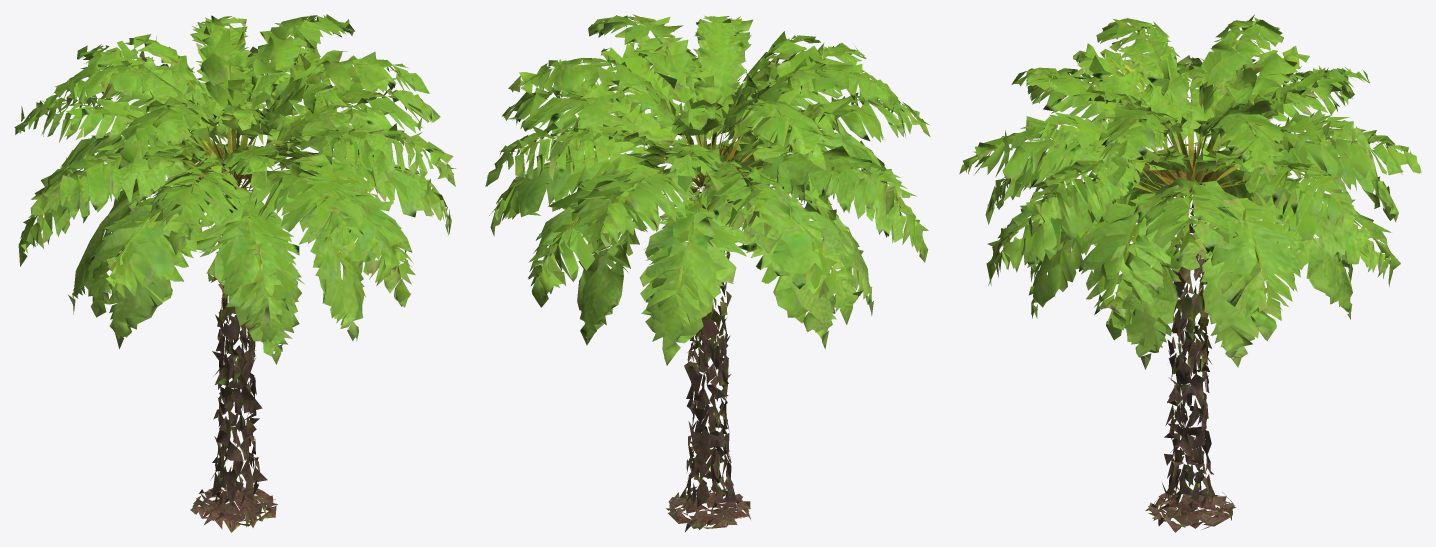
The model's file is treefern.glb.
3 renders of one model, left to right at view 1: azimuth 30°, elevation 25°; view 2: azimuth 150°, elevation 25°; view 3: azimuth 270°, elevation 25°, orthographic.
Parts seen in each view (by area): view 1: Mesh_0; view 2: Mesh_0; view 3: Mesh_0.
Boxes of the visible parts, bbox=[...] form: Mesh_0: bbox=[14, 14, 455, 532]; Mesh_0: bbox=[485, 14, 930, 531]; Mesh_0: bbox=[959, 14, 1421, 532].
Bounding box in the file's own units: 0.9603 × 1.03 × 0.9531.
Materials: 1 (1 with a texture image).
